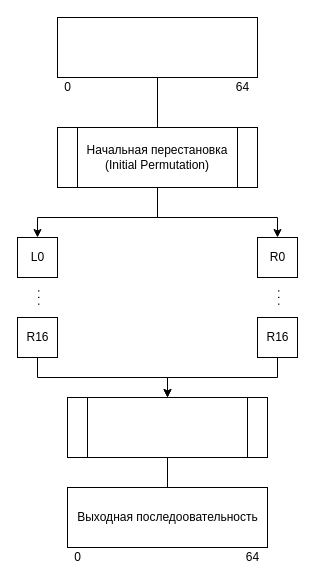
Image size: 315x585. Some labels were removed from this diagram. Here are the shapes that lost their labels. From the top down, the centre of each, then its label:
At point 157,47: "Входная последовательность".
At point 167,427: "Завершающая перестановка (Final Permutation)".
